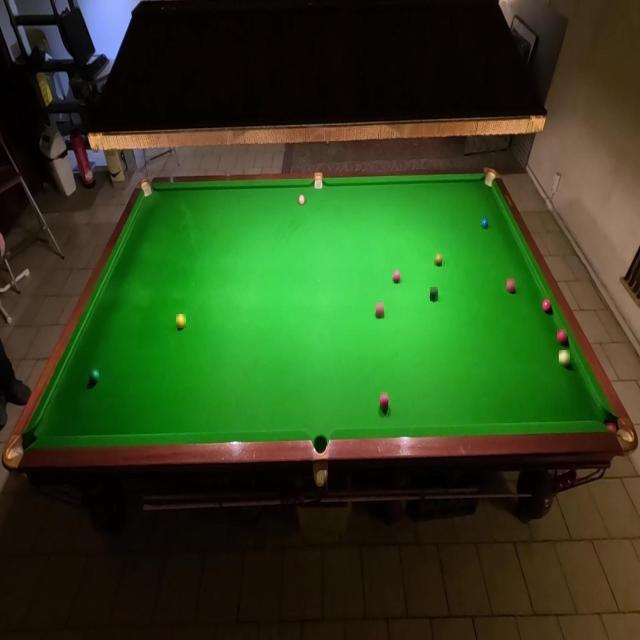Ball: (559, 350, 570, 367), (557, 329, 567, 345), (89, 368, 99, 383), (176, 314, 186, 328), (606, 423, 616, 436), (376, 302, 384, 318), (381, 392, 388, 410), (542, 298, 551, 312), (507, 278, 515, 292), (430, 287, 438, 301), (298, 194, 306, 206), (434, 254, 442, 266), (394, 270, 400, 283), (482, 218, 488, 230)
